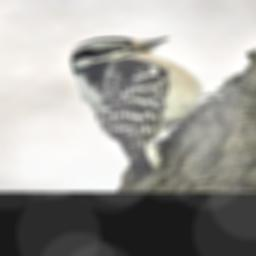Woodpecker: (66, 34, 249, 187)
